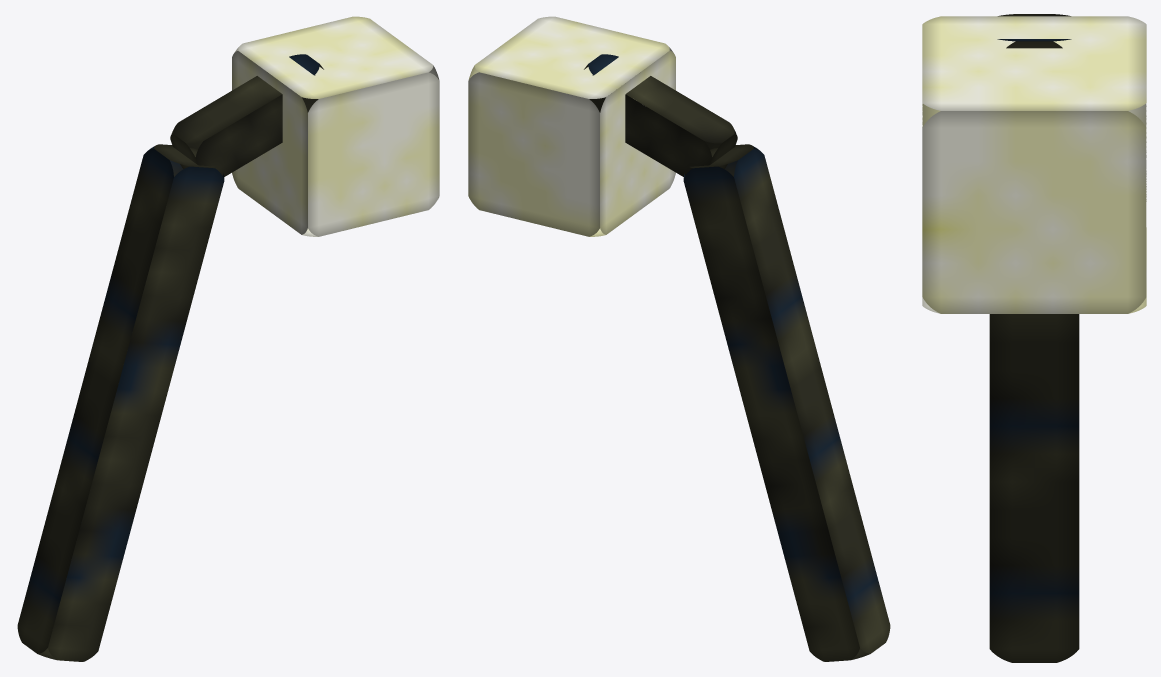
File: anglers_lure.obj
3 renders of one model, left to right at view 1: azimuth 30°, elevation 25°; view 2: azimuth 150°, elevation 25°; view 3: azimuth 270°, elevation 25°, orthographic. The views are drawn at different scales.
Visible parts, largest first — view 1: lit, fire; view 2: lit, fire; view 3: fire, lit.
Boxes of the visible parts, x1,y1,x2,y2 form: lit: (17, 54, 323, 661); fire: (232, 16, 439, 236); lit: (584, 54, 890, 661); fire: (468, 16, 675, 236); fire: (922, 16, 1146, 313); lit: (989, 14, 1079, 662).
Bounding box in the file's own units: 0.5297 × 0.7289 × 0.1875.
